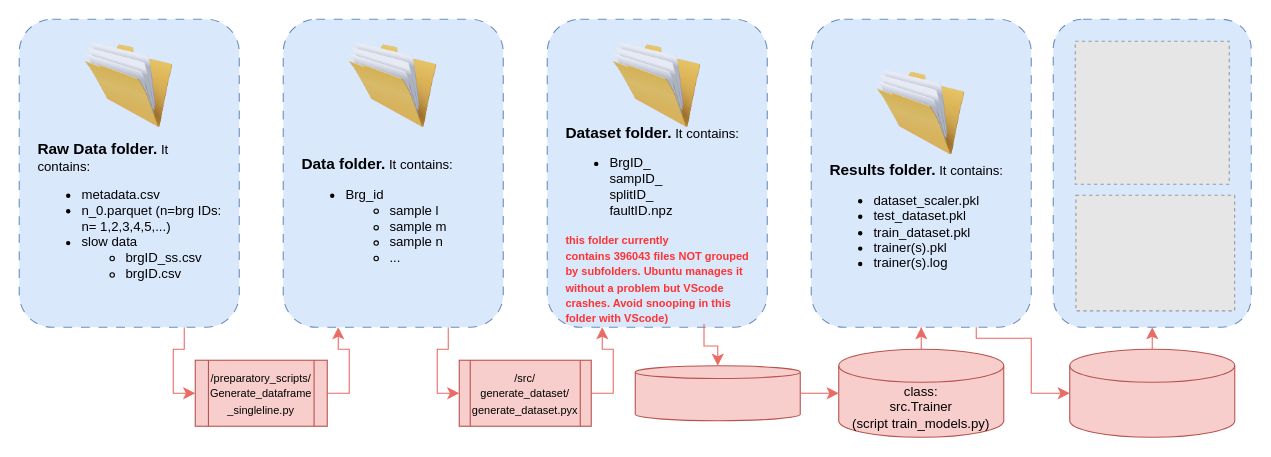
Image size: 1271x457. Some labels were removed from this diagram. Grey dashed boxes stand in for pictures. Here are the shapes that lost their labels. From the top down, the box of each, then its label:
(634, 365, 800, 421): class: src.SKF_dataset
(1069, 348, 1235, 437): script trained_models_report.py
